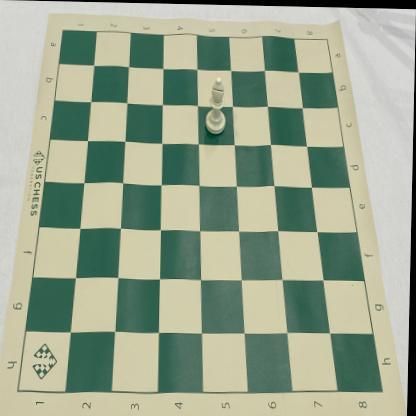white-bishop: (205, 76, 227, 134)
